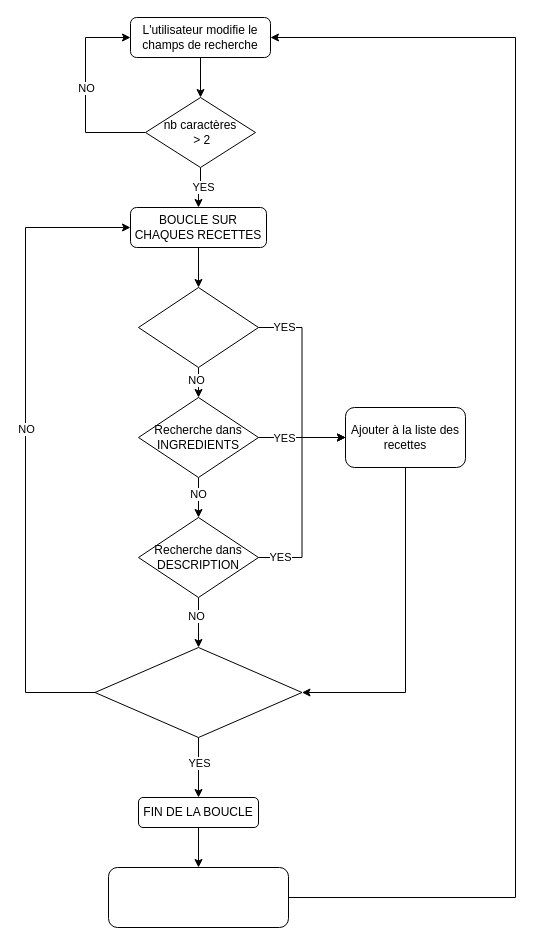
This 541x945 diagram has some shape labels left out. The centre of each missing label's shape, as x and y in pixels:
"Mise à jour de la page avec la nouvelle liste de recettes" goes at (x=198, y=897).
"Recherche dans TITRE" goes at (x=198, y=327).
"Toutes les recettes sont passées dans la boucle ?" goes at (x=198, y=692).
